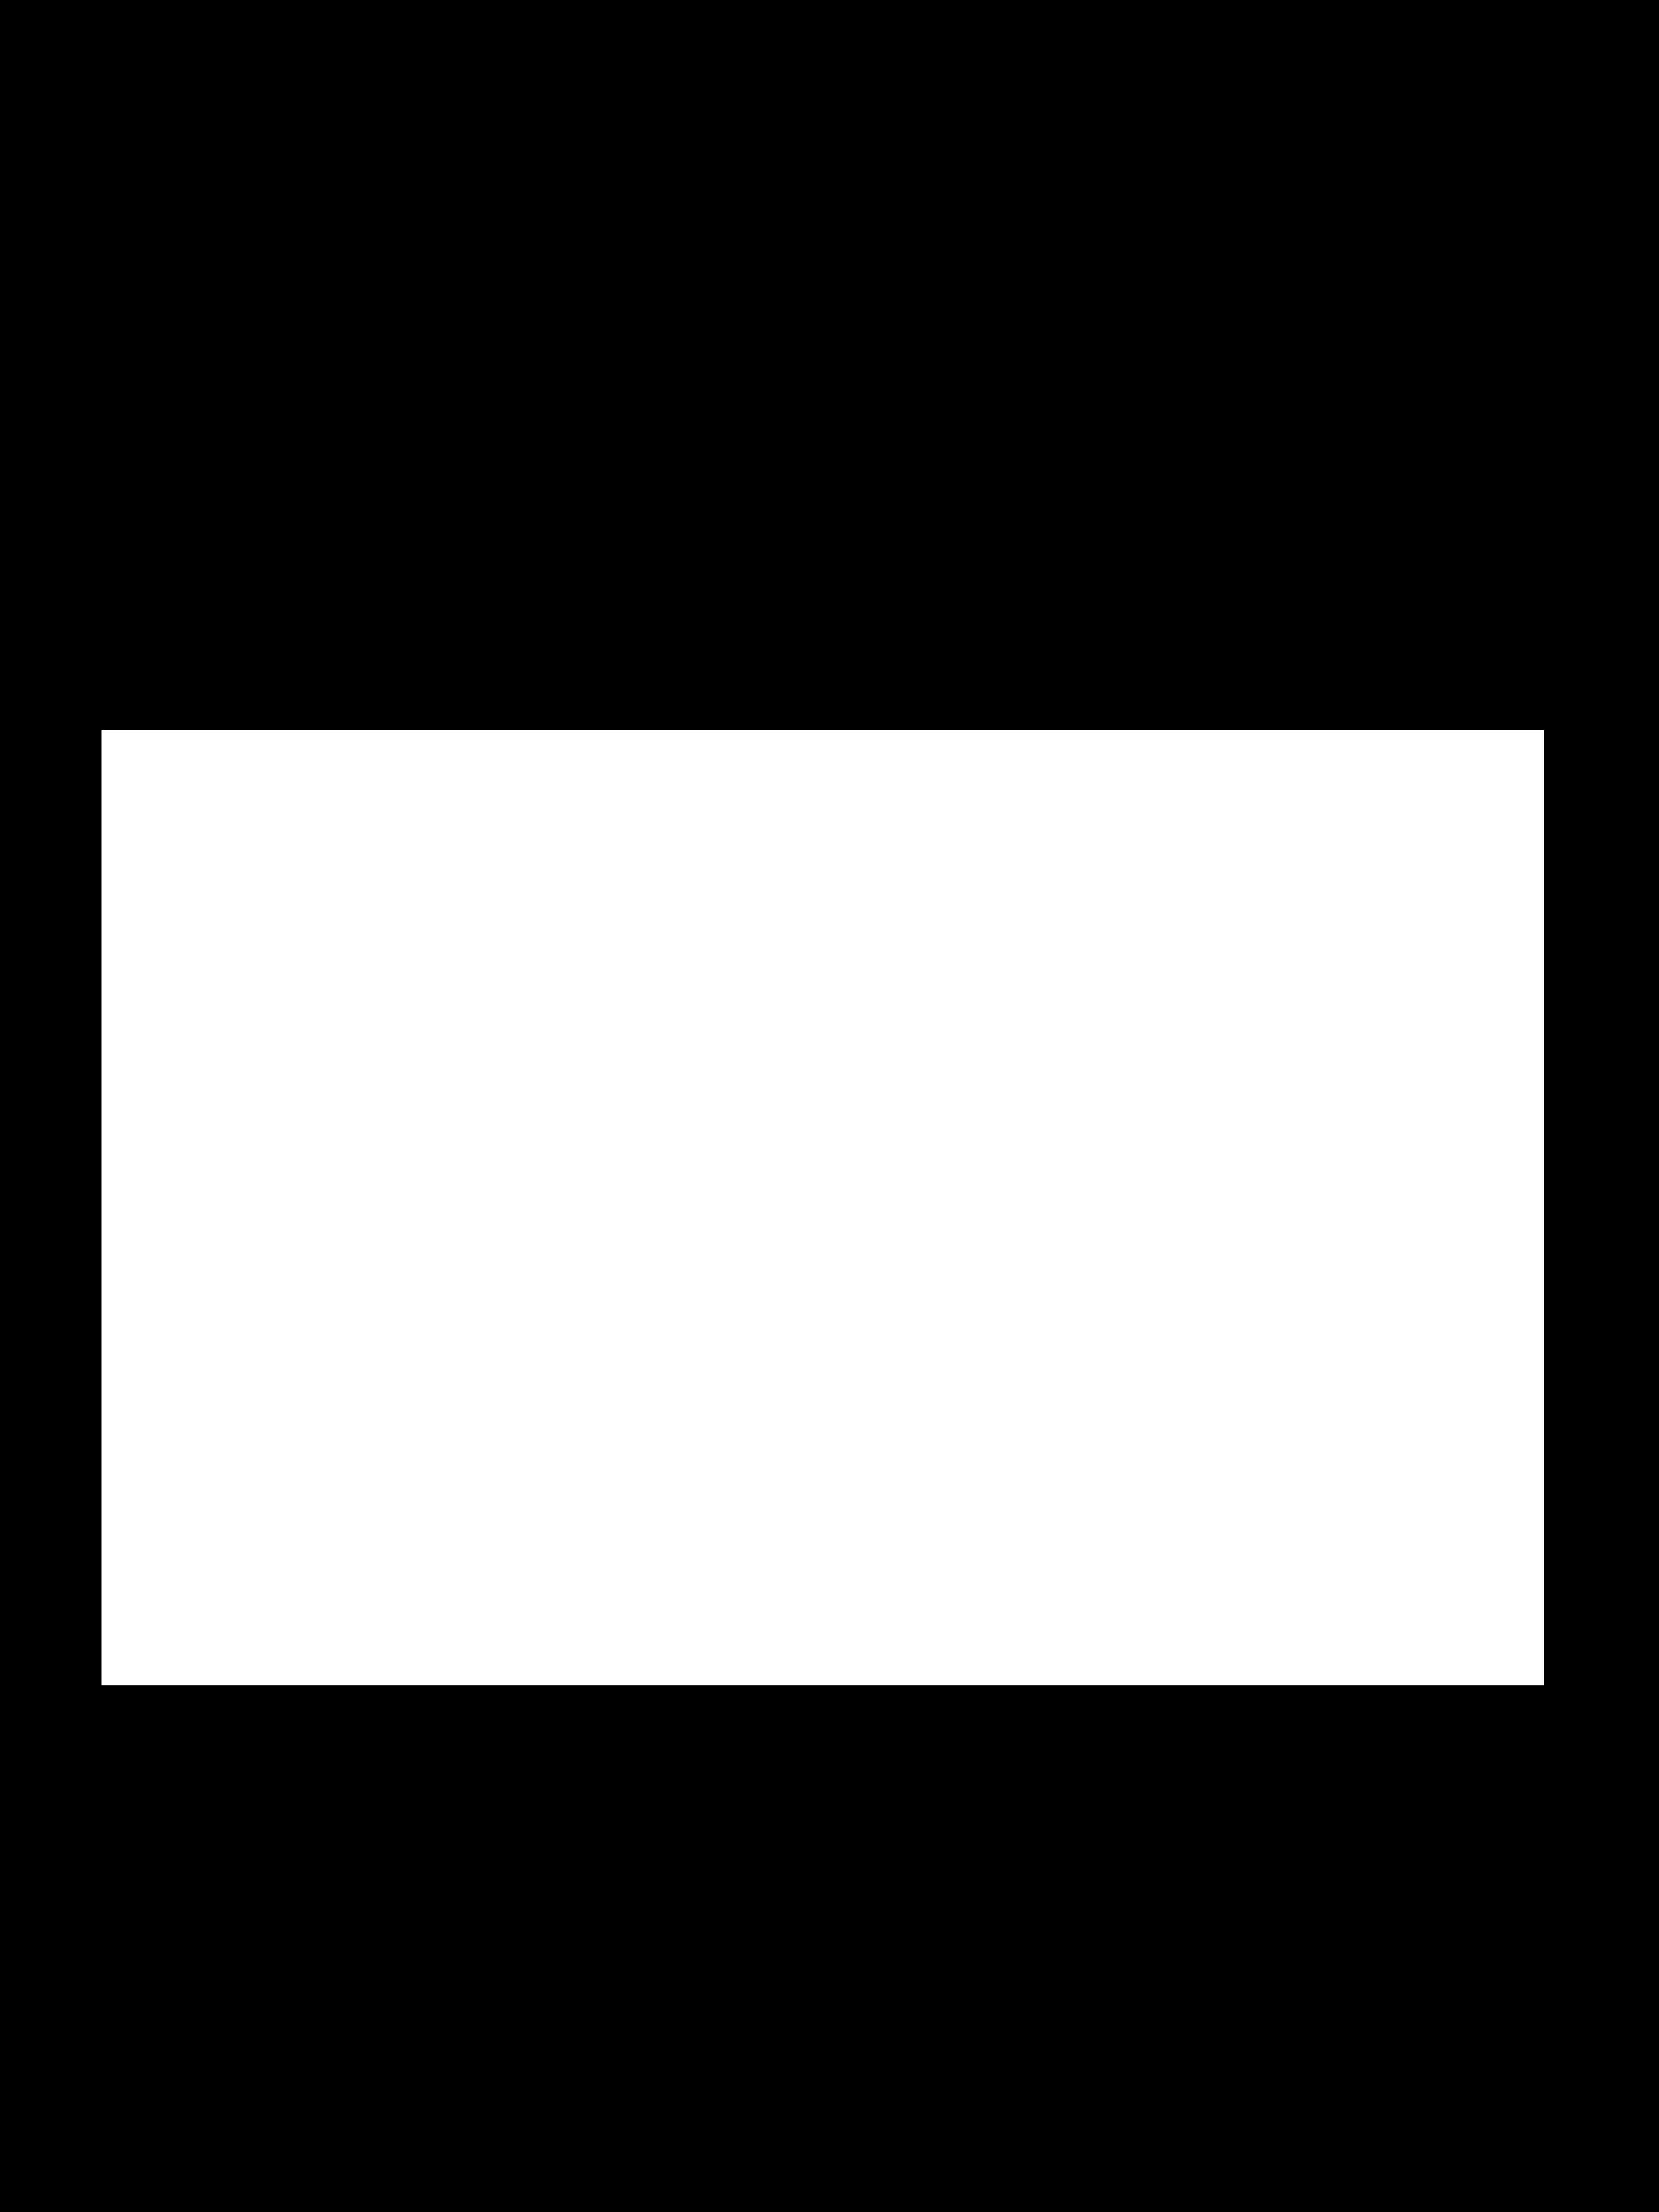column: (145, 768, 683, 1653), (924, 765, 1140, 1649), (1190, 761, 1370, 1646)
table: (101, 730, 1544, 1686)
